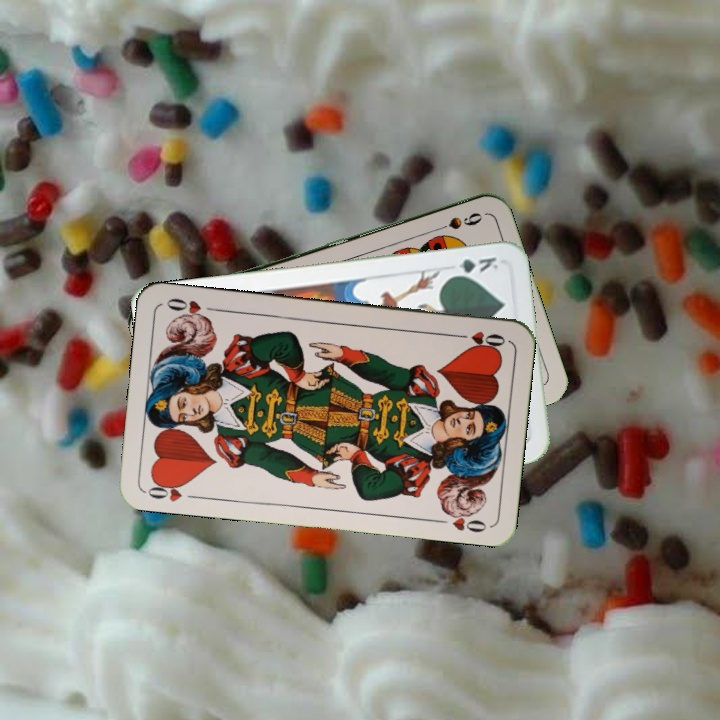GK: (445, 253, 501, 280)
HO: (143, 476, 201, 504), (450, 327, 508, 351)
S9: (428, 208, 485, 235)
